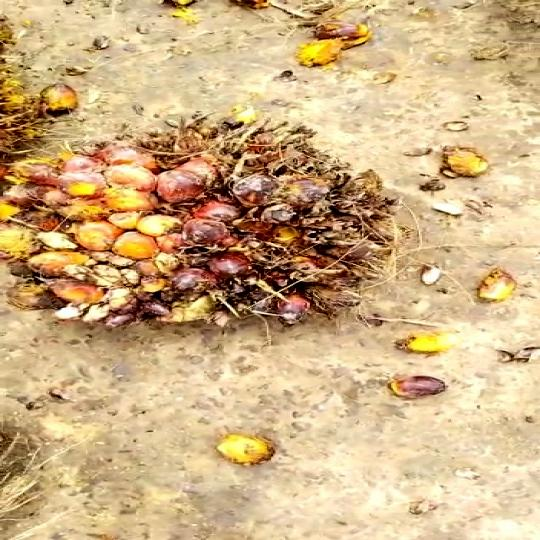masak: (0, 109, 407, 346)
